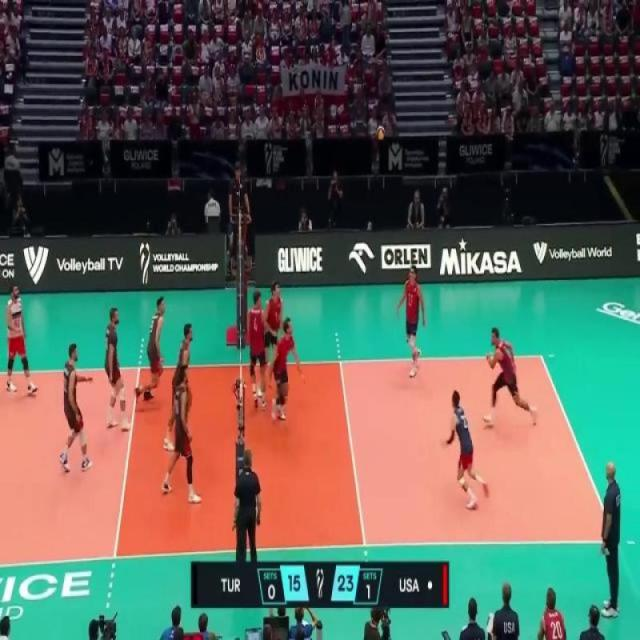volleyball: (374, 122, 386, 142)
